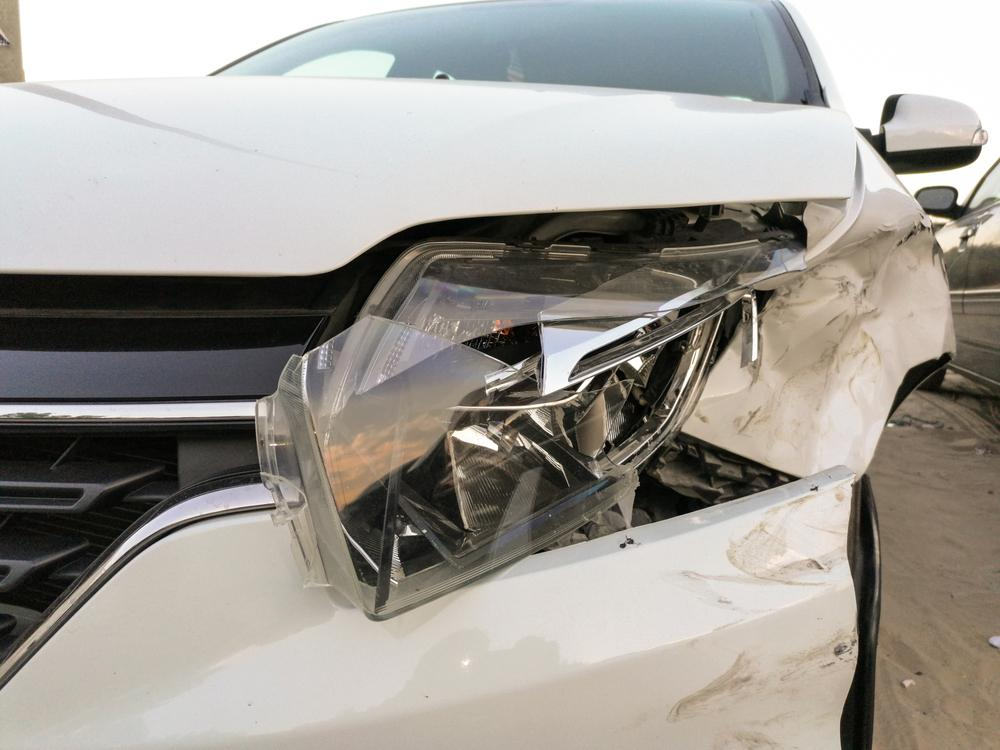dent: (706, 193, 953, 469)
lamp broken: (263, 204, 805, 617)
scratch: (670, 475, 861, 750)
